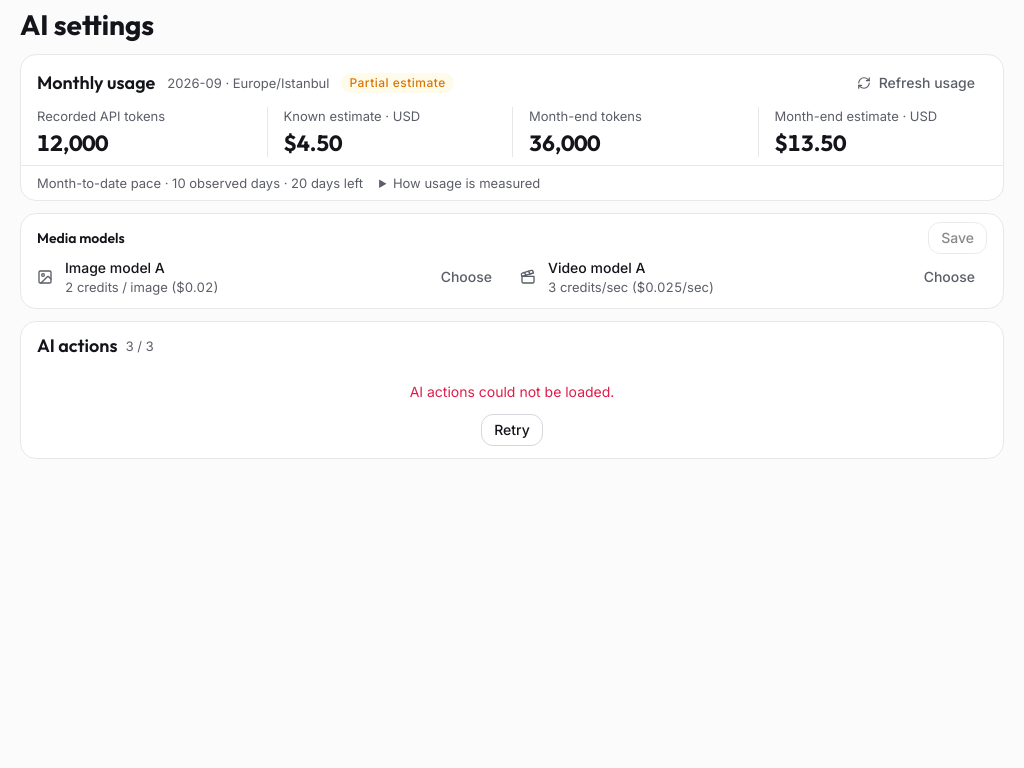
Test: AI execution policy on the AI models page › shows a retryable policy load failure while the media selectors remain available
Expected: the message shows "actions could not be loaded", [410,383,614,400]
Expected: the button with aria-label "Choose video model" is shown, [912,261,987,293]
Click the button "Retry".
click(512, 430)  # box [481,414,543,446]
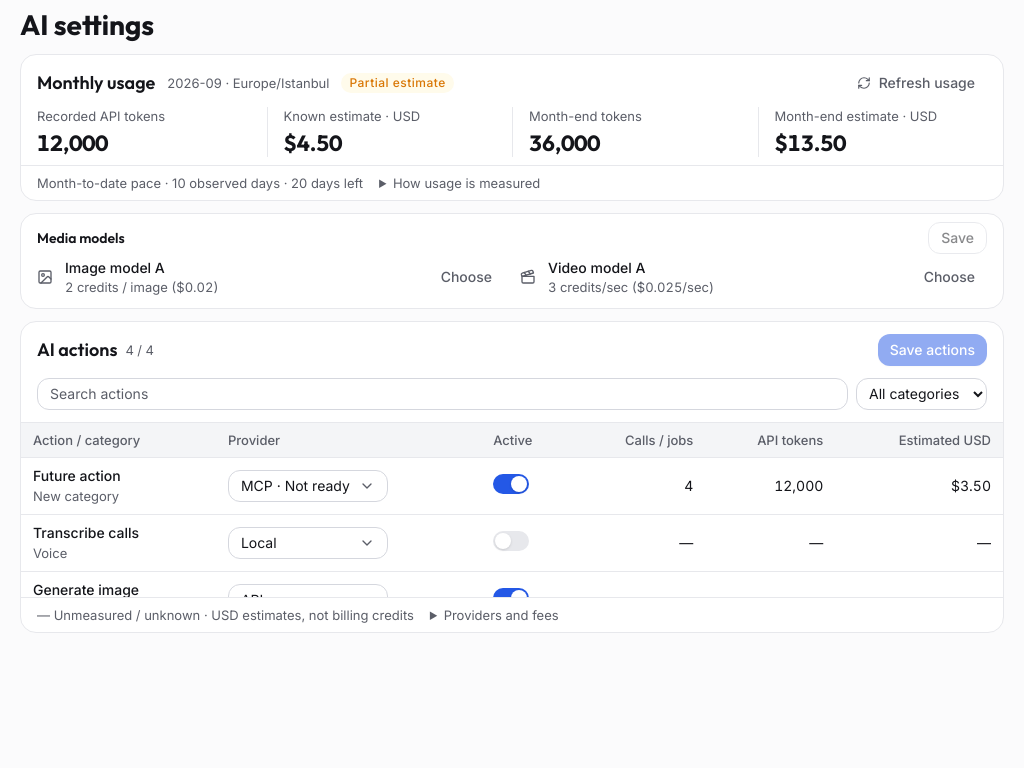
Result: the switch named "Future action: active" is checked at [493,474,529,494]
